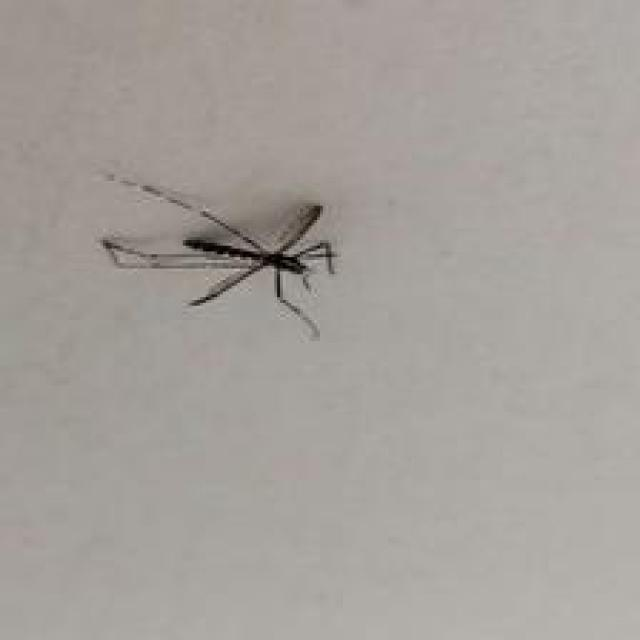Aedes albopictus: (99, 169, 338, 340)
